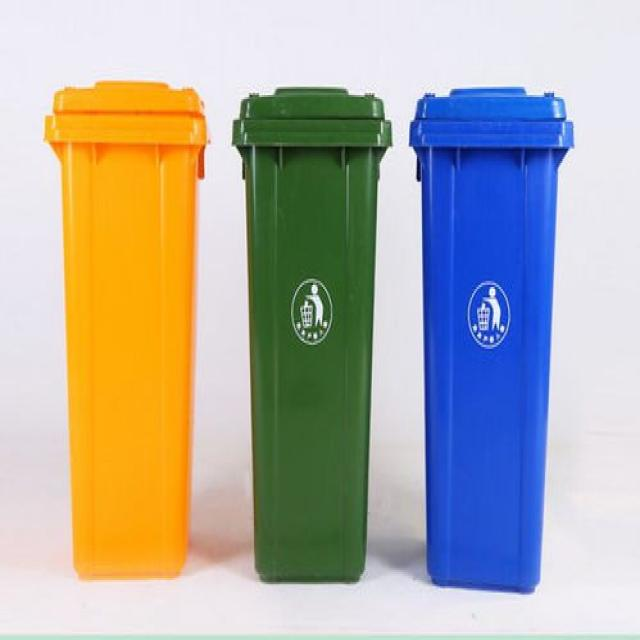garbage_bin: (41, 77, 209, 580), (407, 85, 573, 592), (231, 85, 391, 584)
